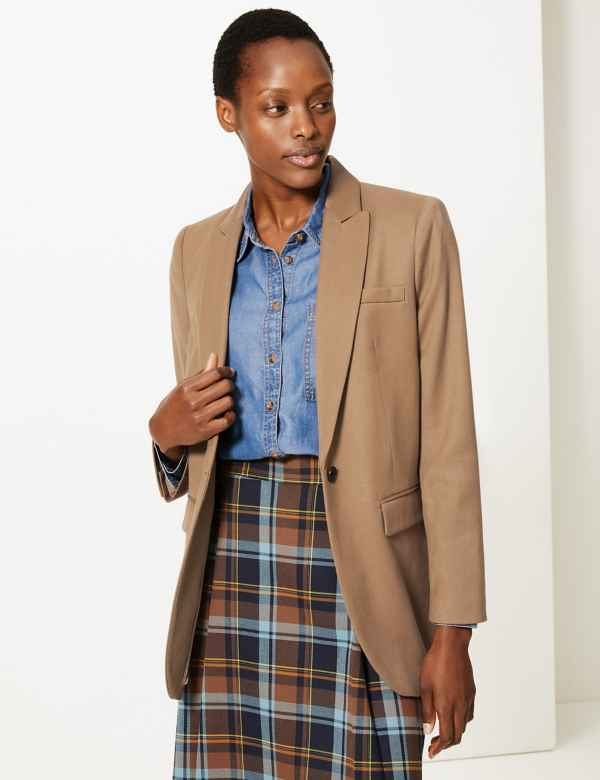F_W_suit jacket: (138, 175, 517, 665)
